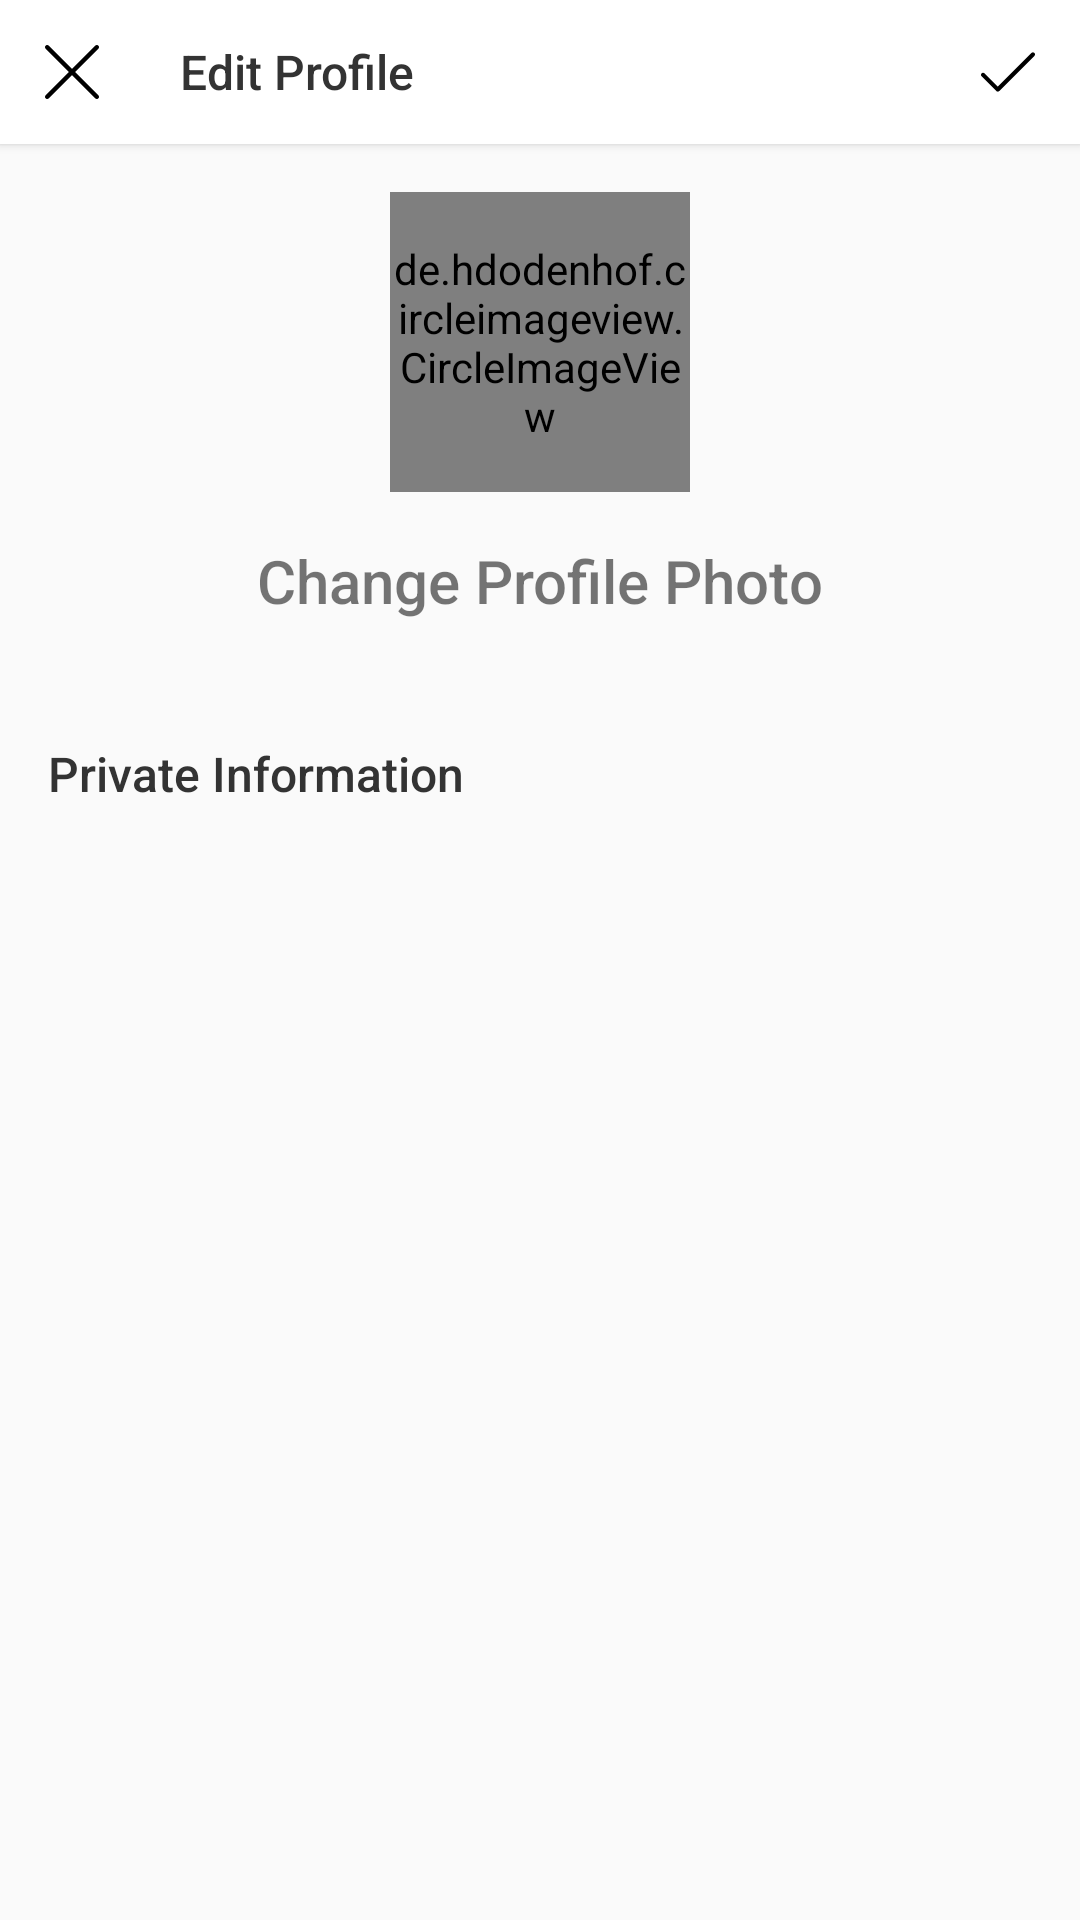

Screen size 1080px x 1920px. Icon name, then its center in pixels as [x,y]:
check: [1008,72]
close: [72,72]
